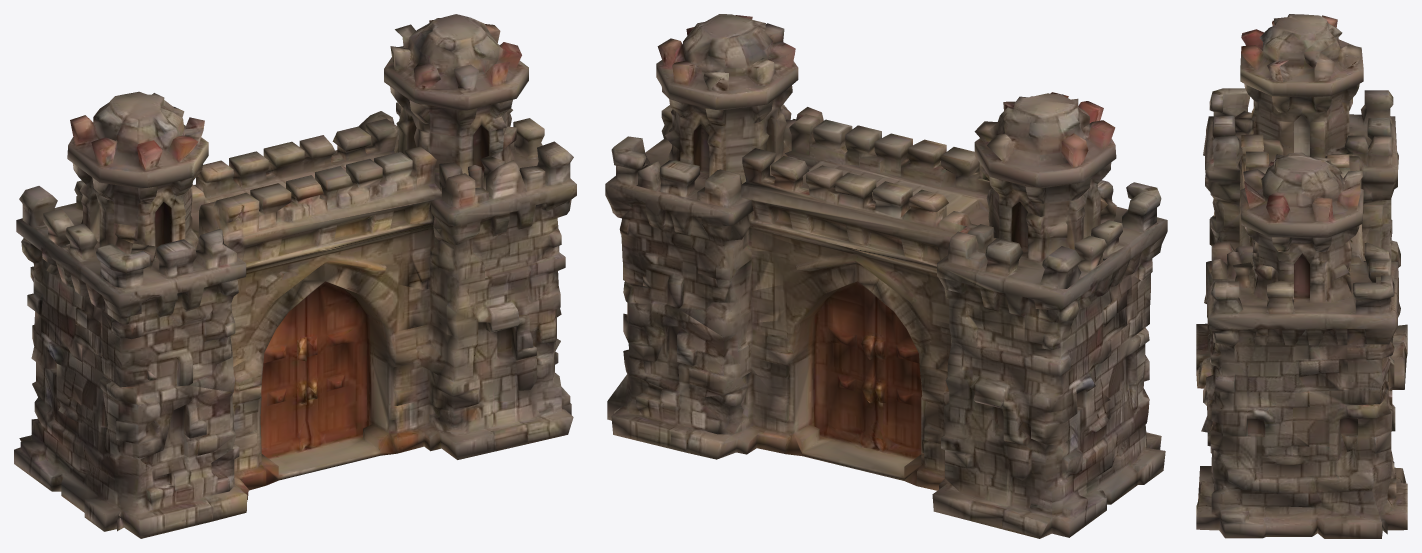
Rendered from portao_jerusalem.glb.
3 renders of one model, left to right at view 1: azimuth 30°, elevation 25°; view 2: azimuth 150°, elevation 25°; view 3: azimuth 270°, elevation 25°, orthographic. The views are drawn at different scales.
Parts seen in each view (by area): view 1: tripo_node_d0882d1c-117c-4841-9baf-9850676efa85; view 2: tripo_node_d0882d1c-117c-4841-9baf-9850676efa85; view 3: tripo_node_d0882d1c-117c-4841-9baf-9850676efa85.
Part boxes in pixels (x1=…): tripo_node_d0882d1c-117c-4841-9baf-9850676efa85: x1=14, y1=14, x2=576, y2=538; tripo_node_d0882d1c-117c-4841-9baf-9850676efa85: x1=605, y1=14, x2=1167, y2=538; tripo_node_d0882d1c-117c-4841-9baf-9850676efa85: x1=1196, y1=14, x2=1407, y2=538.
Bounding box in the file's own units: 0.978 × 0.7598 × 0.423.
Materials: 1 (1 with a texture image).
